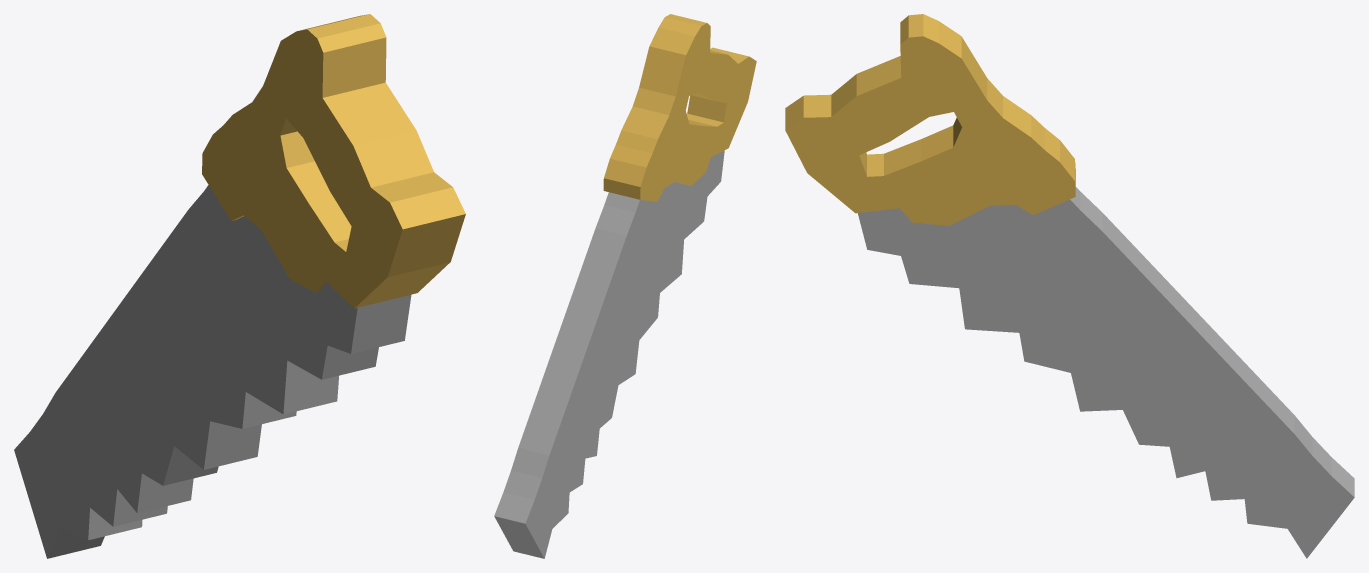
Rendered from Sierra.fbx.
The picture shows the model from 3 angles, left to right: view 1: azimuth 30°, elevation 25°; view 2: azimuth 150°, elevation 25°; view 3: azimuth 270°, elevation 25°; orthographic projection. The views are drawn at different scales.
Parts seen in each view (by area): view 1: Hoja, Mango.001; view 2: Hoja, Mango.001; view 3: Hoja, Mango.001.
Boxes of the visible parts, left/top/right/bottom form: Hoja: left=14, top=185, right=411, bottom=558; Mango.001: left=202, top=14, right=465, bottom=308; Hoja: left=494, top=150, right=724, bottom=558; Mango.001: left=603, top=14, right=756, bottom=201; Hoja: left=857, top=187, right=1354, bottom=558; Mango.001: left=785, top=14, right=1075, bottom=225.
Bounding box in the file's own units: 60.18 × 660 × 649.
